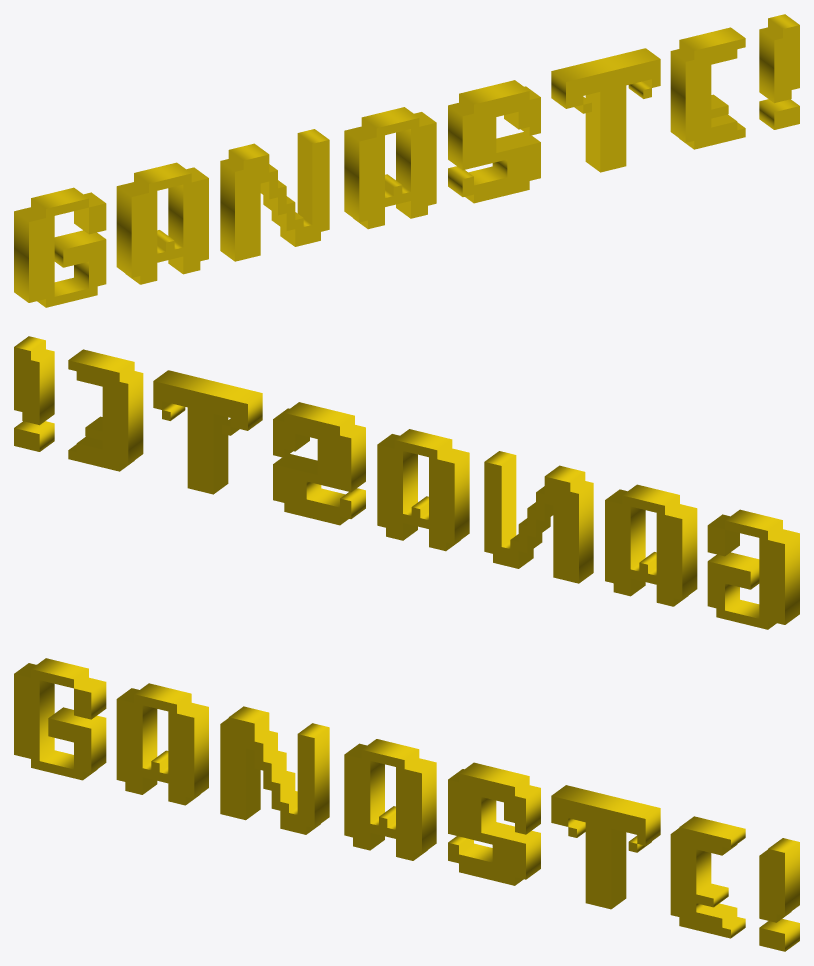
File: ganaste.glb
3 renders of one model, top to bottom at view 1: azimuth 30°, elevation 25°; view 2: azimuth 150°, elevation 25°; view 3: azimuth 330°, elevation 25°, orthographic.
Parts seen in each view (by area): view 1: Text; view 2: Text; view 3: Text.
Boxes of the visible parts, <box> form: Text: <box>14,14,799,307</box>; Text: <box>14,336,799,629</box>; Text: <box>14,658,799,951</box>.
Size of the model in its own units: 5.98 by 0.7333 by 0.2.
